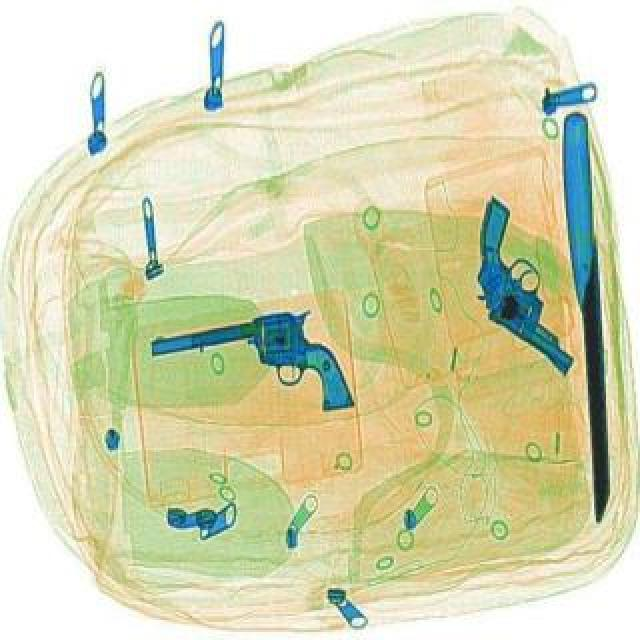gun: (422, 192, 632, 372), (148, 302, 354, 438)
knife: (556, 108, 620, 518)
